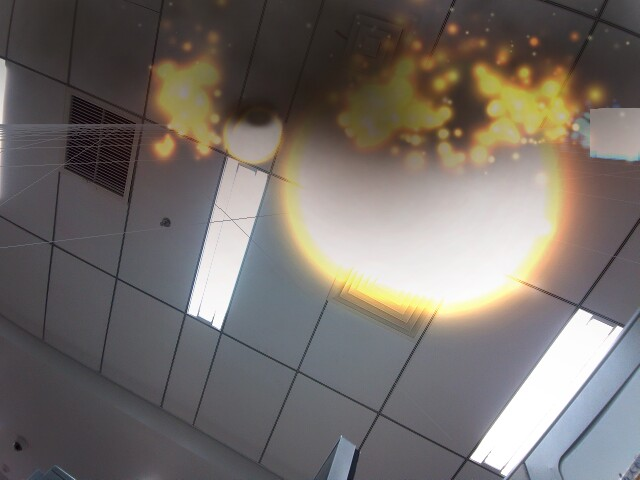fire: (292, 79, 582, 323), (221, 104, 282, 168)
